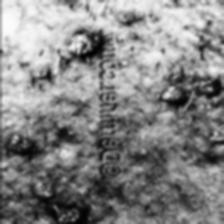Toxin: (159, 64, 220, 109), (68, 28, 102, 60), (3, 128, 34, 155), (62, 201, 90, 224), (29, 63, 50, 81), (208, 127, 224, 144)
